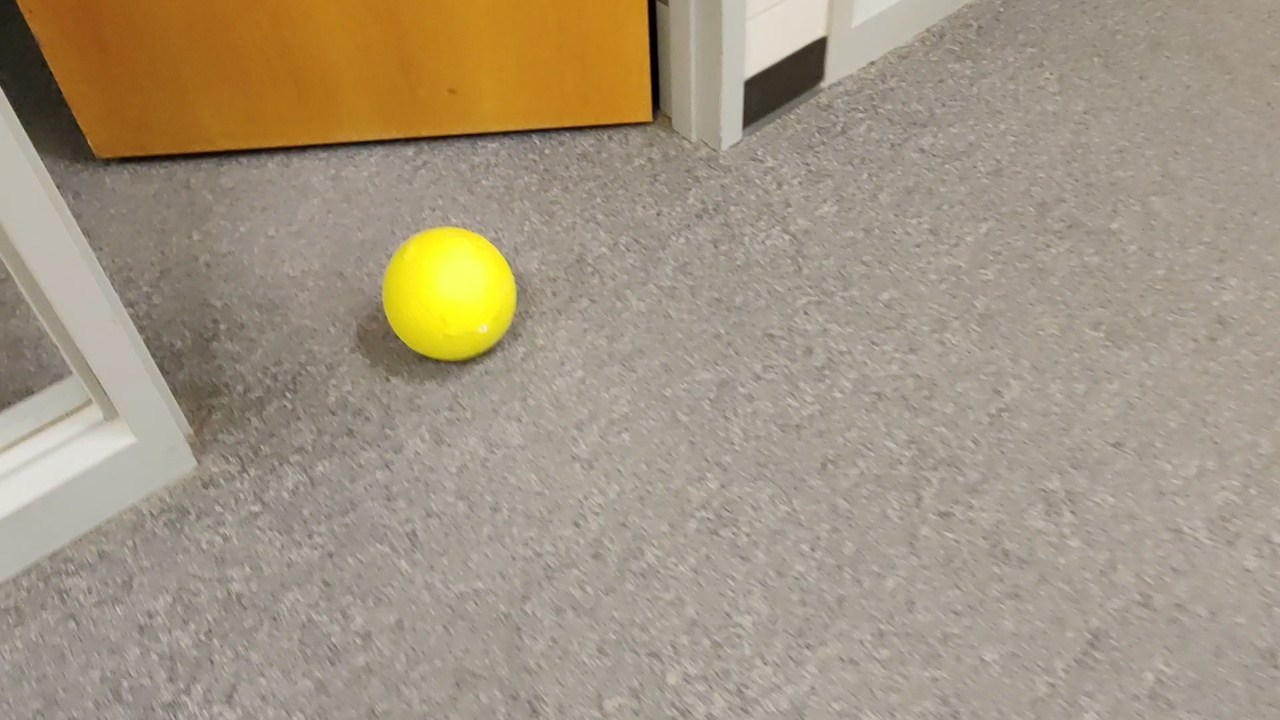Ball: (387, 226, 511, 353)
